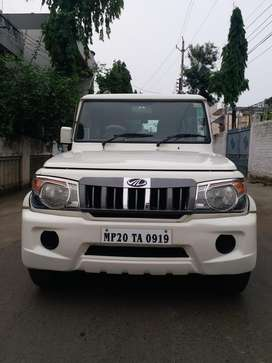MP20TA0919: (101, 230, 171, 244)
